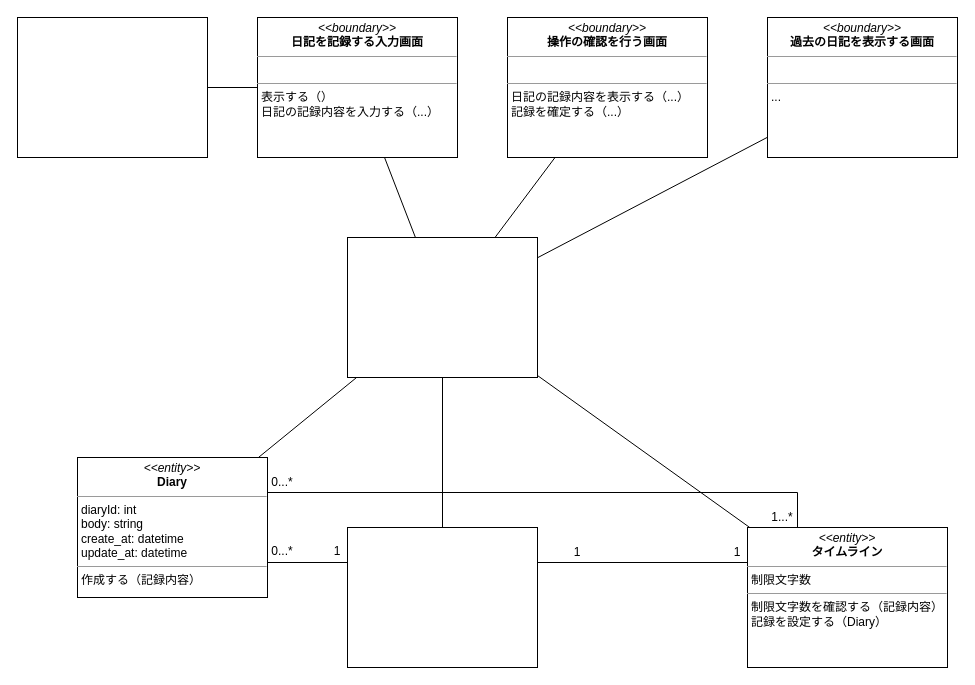
Image size: 975x685. Some labels were removed from this diagram. Each missing label, with the centre of its shape:
"<<boundary>> メイン画面 日記の記録を指示する（）" goes at pixel 112 87.
"<<control>> 日記記録管理 記録内容を確認する（記録内容） 記録する（記録内容）" goes at pixel 442 307.
"<<entity>> User userId: int userName: string password: string 日記を設定する（Diary）" goes at pixel 442 597.
